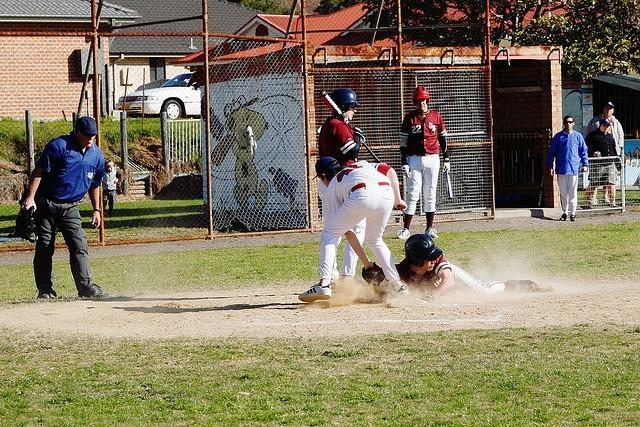car: (116, 73, 202, 120)
